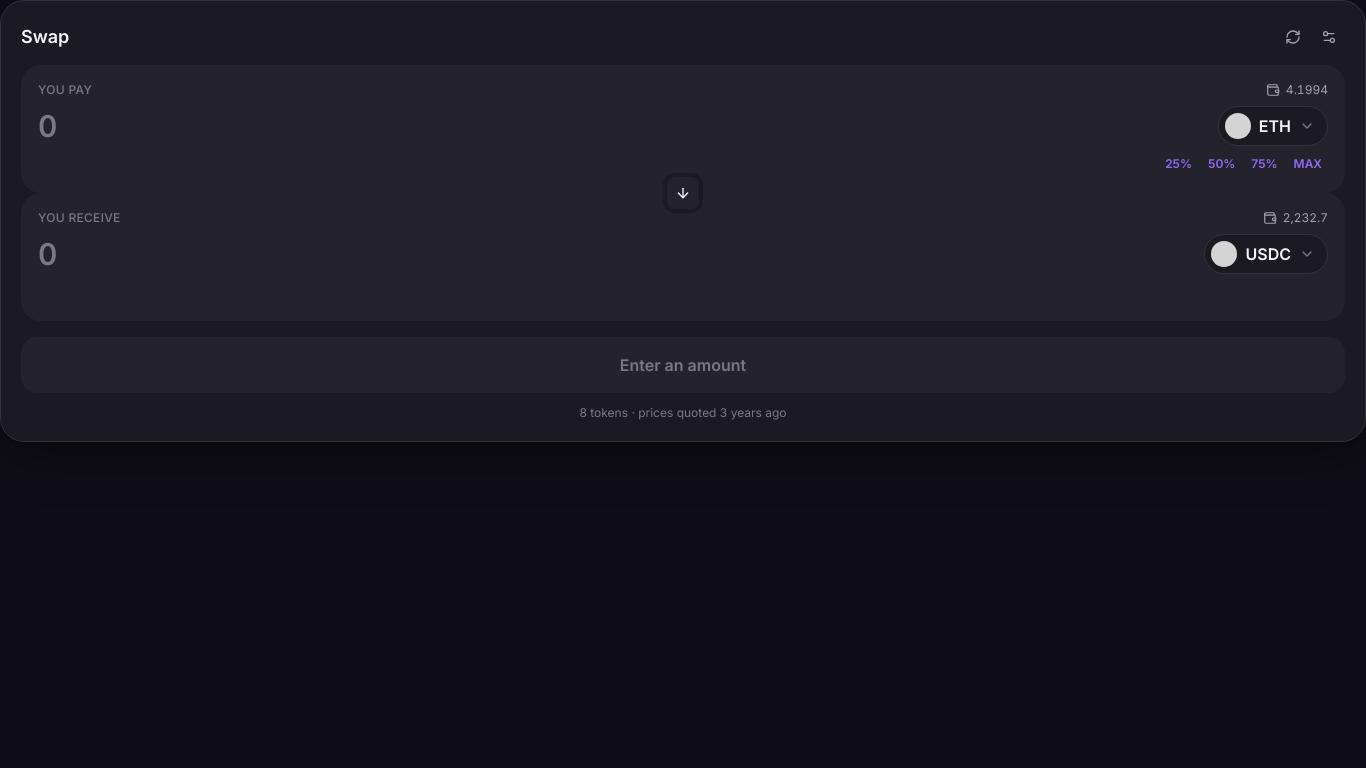
it: the token picker › filters as the user searches
The width and height of the screenshot is (1366, 768).
Click the button with aria-label "change token, currently eth".
click(1273, 126)  # box [1218,106,1328,146]
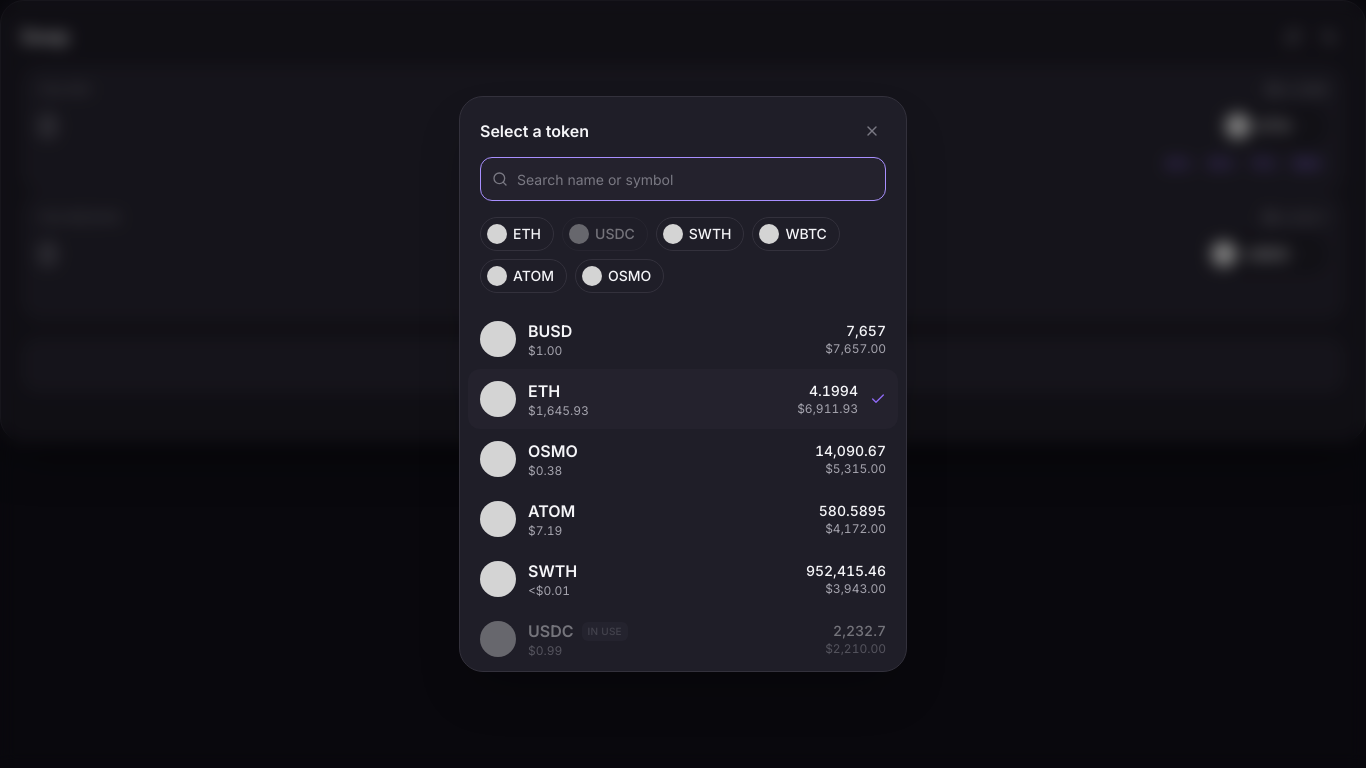
Type "swt" into the field named "search tokens".
click(683, 179); type("swt")  # box [480,157,886,201]
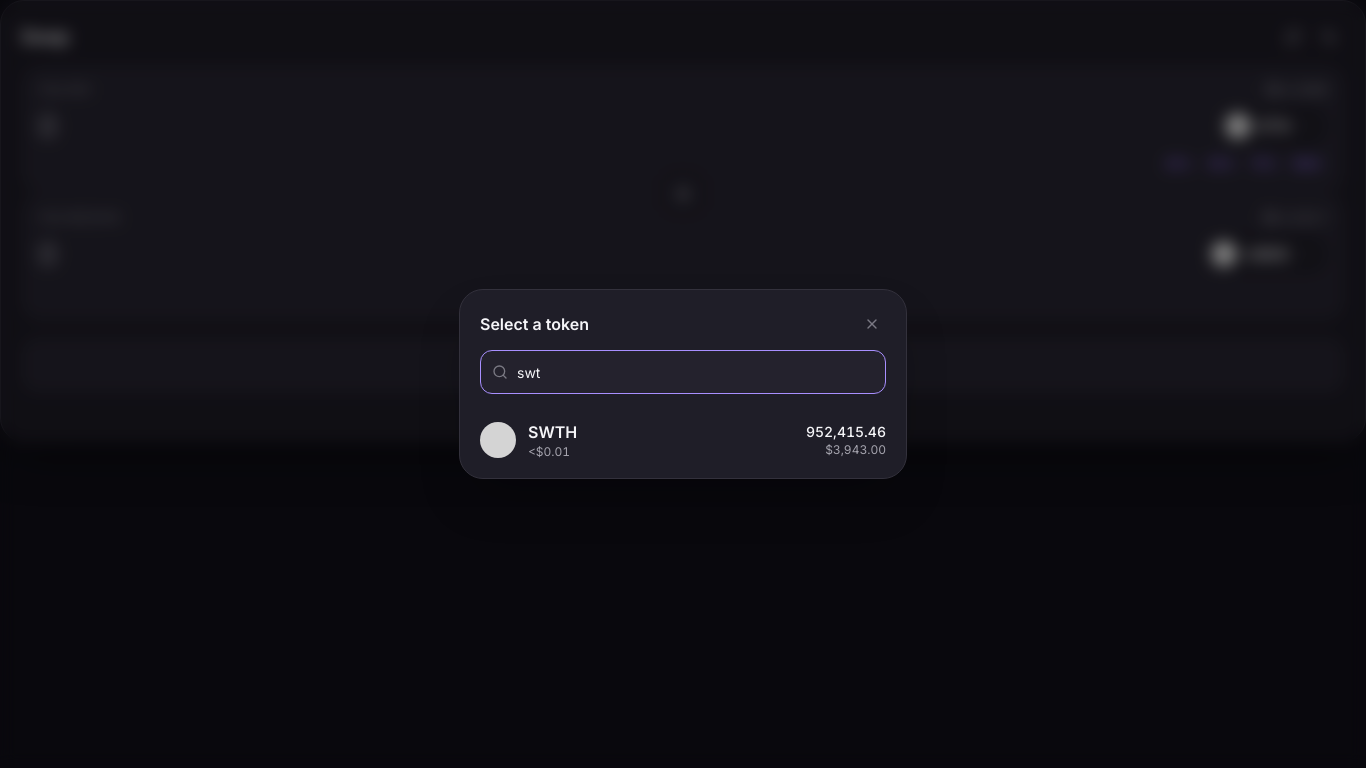
Expected: the option shows "SWTH", [468,410,898,470]
Expected: the number of options is 1, [468,410,898,470]
